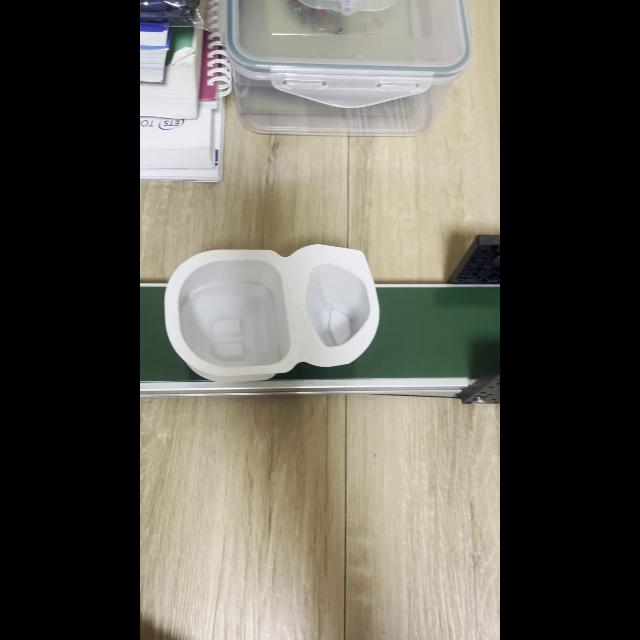clean: (166, 245, 380, 381)
